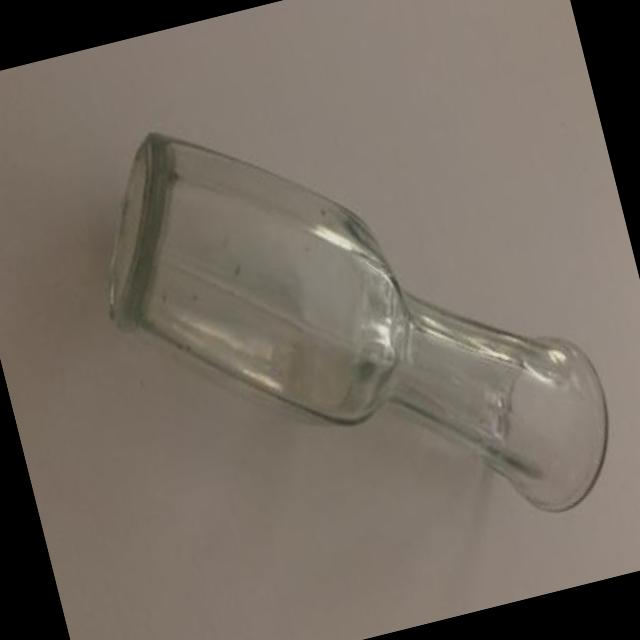chai_thuy_tinh: (106, 133, 609, 515)
